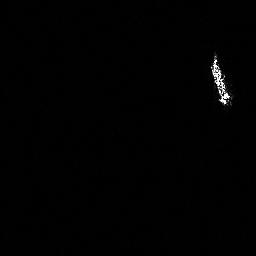ship: (207, 52, 237, 109)
